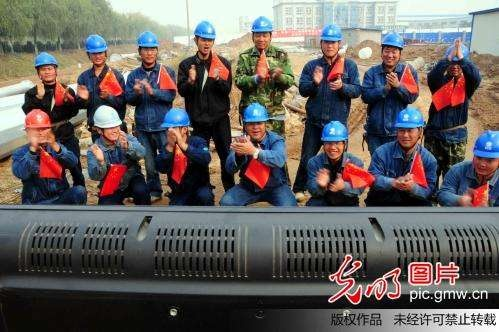blue: (394, 106, 424, 149), (469, 131, 499, 173), (320, 120, 349, 159), (163, 107, 189, 146), (83, 31, 110, 68), (191, 18, 217, 55), (378, 30, 403, 67), (318, 23, 343, 58), (242, 104, 267, 139), (34, 51, 58, 85), (135, 31, 159, 65), (251, 15, 272, 50), (446, 43, 468, 76)
red: (22, 108, 56, 148)
white: (91, 103, 123, 140)
